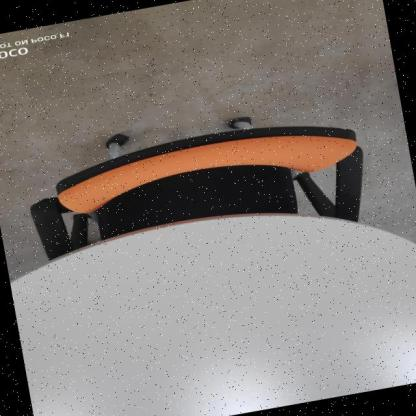Chair: (0, 73, 415, 291)
Table: (2, 171, 416, 416)
